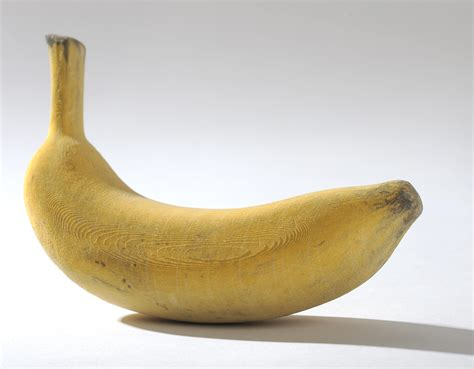banana: (21, 125, 426, 331)
